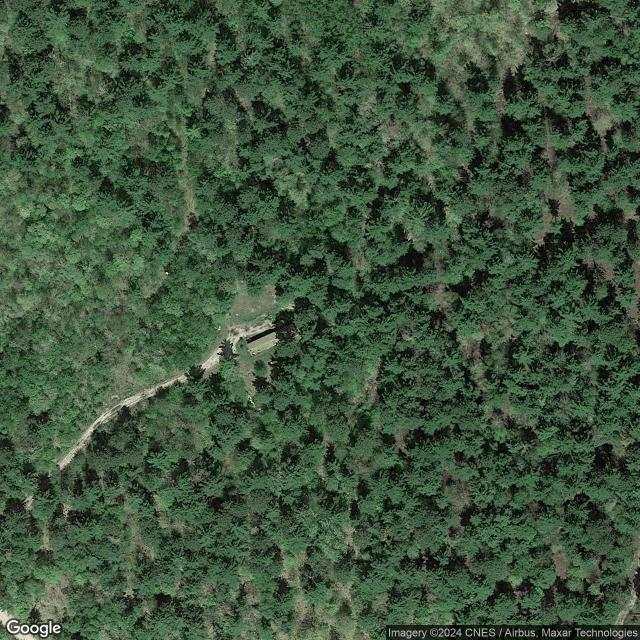Propane: (269, 359, 279, 366)
